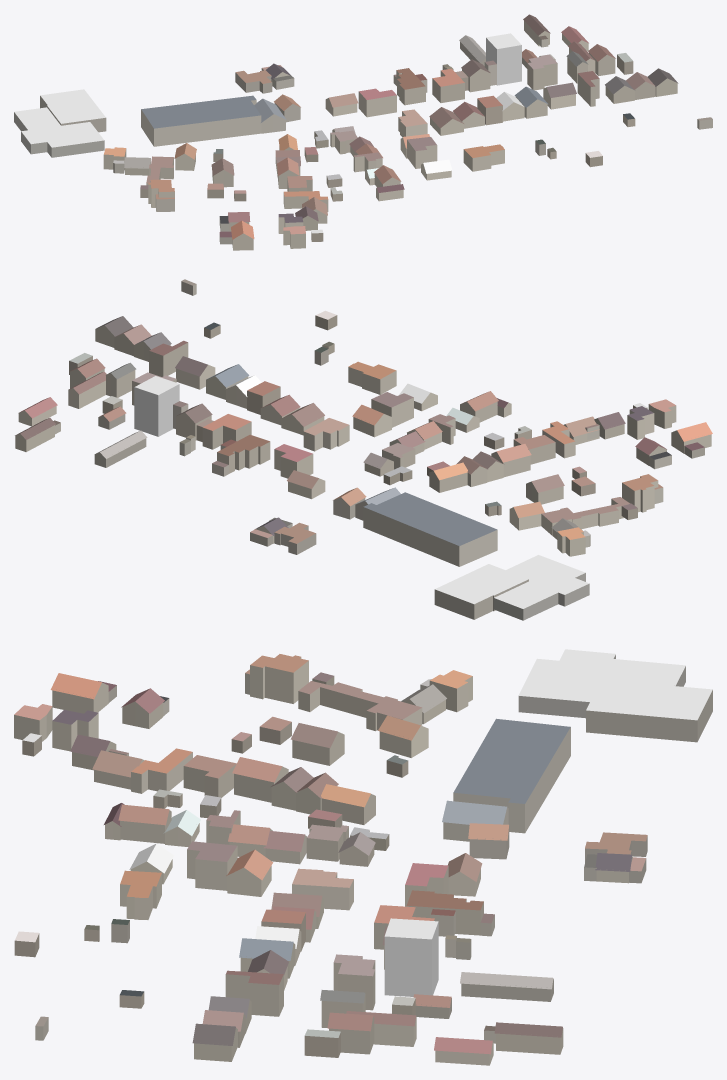
3 views of the same model, one above another, from view 1: azimuth 30°, elevation 25°; view 2: azimuth 150°, elevation 25°; view 3: azimuth 270°, elevation 25° (orthographic). The views are drawn at different scales.
Parts seen in each view (by area): view 1: tuile; view 2: tuile; view 3: tuile.
Part boxes in pixels (<box>): tuile: <box>14,14,712,250</box>; tuile: <box>15,279,712,620</box>; tuile: <box>14,649,712,1065</box>.
Bounding box in the file's own units: 271 × 22.59 × 190.
